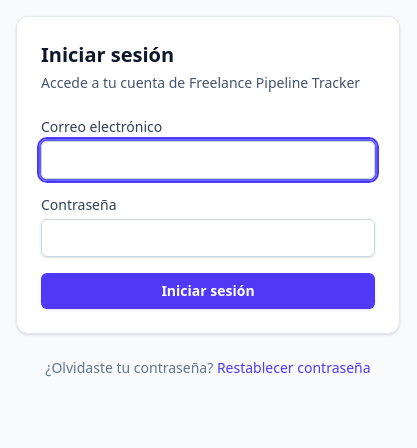
Test: Página /login — wiring real por defecto (F05-T01) › muestra 'Credenciales inválidas' en 401 y no navega
Step 1. Type "usuaria@example.com" into the field labelled "Correo electrónico" → (208, 160), box [41, 141, 375, 179]
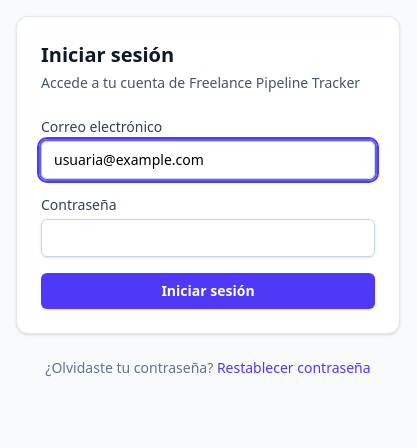
Step 2. Type "Segura1234" into the password field labelled "Contraseña" → (208, 238), box [41, 219, 375, 257]
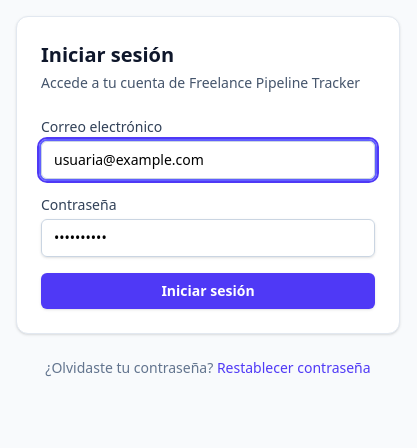
Step 3. Click the button "Iniciar sesión" → (208, 291), box [41, 273, 375, 309]
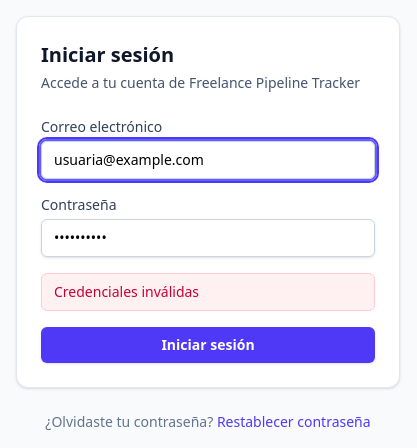
Result: the text "Credenciales inválidas" is shown at [41, 273, 375, 311]
